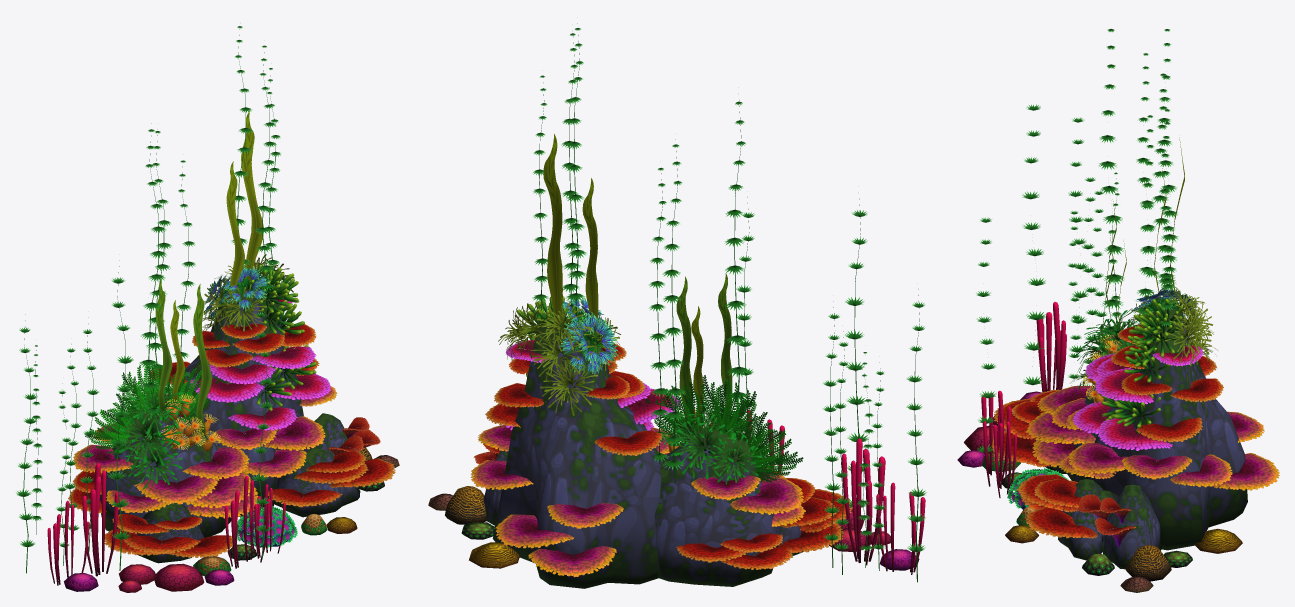
Rendered from CoralSet_14.FBX.
The picture shows the model from 3 angles, left to right: view 1: azimuth 30°, elevation 25°; view 2: azimuth 150°, elevation 25°; view 3: azimuth 270°, elevation 25°; orthographic projection. The views are drawn at different scales.
Parts seen in each view (by area): view 1: Set_14, Set_14_Part81, Set_14_Part82, Set_14_Part68, Set_14_Part05, Set_14_Part78, Set_14_Part03, Set_14_Part45, Set_14_Part27, Set_14_Part11, Set_14_Part76, Set_14_Part52 (+29 smaller); view 2: Set_14, Set_14_Part81, Set_14_Part82, Set_14_Part05, Set_14_Part03, Set_14_Part53, Set_14_Part52, Set_14_Part11, Set_14_Part086, SW07, Set_14_Part23, Set_14_Part80 (+23 smaller); view 3: Set_14, Set_14_Part81, Set_14_Part82, Set_14_Part68, Set_14_Part05, Set_14_Part03, Set_14_Part04, Set_14_Part50, Set_14_Part06, SW08, Set_14_Part30, Set_14_Part47 (+22 smaller).
Part boxes in pixels (x1,y1,x2,y2): Set_14: [99, 284, 360, 537]; Set_14_Part81: [73, 385, 337, 518]; Set_14_Part82: [68, 451, 395, 557]; Set_14_Part68: [189, 346, 330, 430]; Set_14_Part05: [150, 323, 319, 385]; Set_14_Part78: [64, 563, 234, 592]; Set_14_Part03: [82, 463, 119, 576]; Set_14_Part45: [160, 393, 221, 451]; Set_14_Part27: [111, 401, 181, 473]; Set_14_Part11: [241, 111, 263, 282]; Set_14_Part76: [137, 503, 204, 563]; Set_14_Part52: [84, 393, 139, 455]; Set_14: [483, 322, 781, 588]; Set_14_Part81: [470, 424, 805, 577]; Set_14_Part82: [676, 478, 852, 569]; Set_14_Part05: [485, 343, 662, 455]; Set_14_Part03: [841, 438, 885, 565]; Set_14_Part53: [699, 375, 756, 440]; Set_14_Part52: [739, 412, 803, 482]; Set_14_Part11: [543, 134, 562, 329]; Set_14_Part086: [559, 312, 618, 375]; SW07: [662, 139, 685, 483]; Set_14_Part23: [670, 413, 736, 479]; Set_14_Part80: [645, 381, 709, 444]; Set_14: [1058, 308, 1247, 569]; Set_14_Part81: [1025, 385, 1279, 490]; Set_14_Part82: [989, 389, 1097, 538]; Set_14_Part68: [1072, 353, 1172, 450]; Set_14_Part05: [1110, 325, 1223, 442]; Set_14_Part03: [1036, 302, 1065, 392]; Set_14_Part04: [1077, 494, 1135, 546]; Set_14_Part50: [981, 390, 1011, 486]; Set_14_Part06: [1125, 545, 1171, 581]; SW08: [1098, 29, 1124, 356]; Set_14_Part30: [1164, 310, 1211, 366]; Set_14_Part47: [993, 421, 1017, 497].
Bounding box in the file's own units: 154 × 170 × 98.92.
